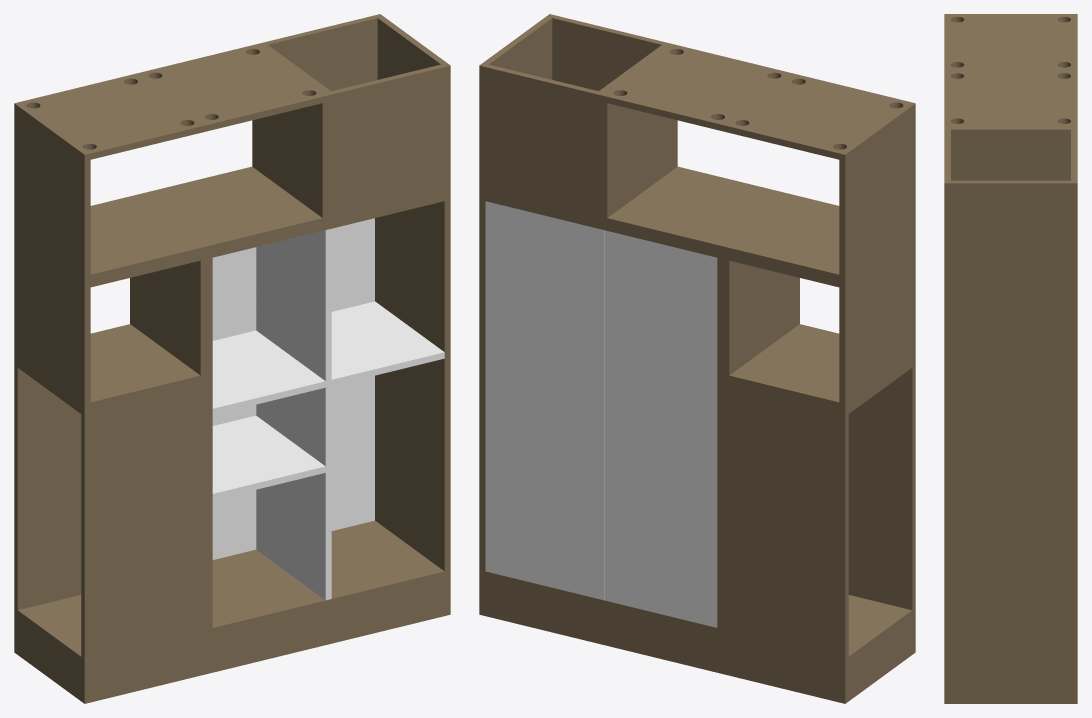
The model's file is example2.glb.
3 renders of one model, left to right at view 1: azimuth 30°, elevation 25°; view 2: azimuth 150°, elevation 25°; view 3: azimuth 270°, elevation 25°, orthographic. The views are drawn at different scales.
Visible parts, largest first — view 1: example2012, example2006, example2003, example2013, example2011, example2005, example2004, example2010, example2009, example2007, example2008; view 2: example2004, example2012, example2006, example2013, example2011, example2010, example2003, example2005; view 3: example2003, example2013, example2012, example2010.
Part boxes in pixels (left/top/right/bottom): example2012: left=14, top=44, right=328, bottom=282; example2006: left=14, top=359, right=206, bottom=665; example2003: left=206, top=193, right=450, bottom=635; example2013: left=258, top=14, right=450, bottom=222; example2011: left=14, top=231, right=206, bottom=409; example2005: left=256, top=229, right=331, bottom=600; example2004: left=212, top=218, right=374, bottom=559; example2010: left=14, top=576, right=450, bottom=703; example2009: left=212, top=415, right=325, bottom=500; example2007: left=212, top=330, right=325, bottom=414; example2008: left=331, top=301, right=444, bottom=385; example2004: left=485, top=201, right=717, bottom=627; example2012: left=601, top=44, right=915, bottom=282; example2006: left=723, top=359, right=915, bottom=665; example2013: left=479, top=14, right=671, bottom=222; example2011: left=723, top=231, right=915, bottom=409; example2010: left=479, top=576, right=915, bottom=703; example2003: left=479, top=193, right=723, bottom=635; example2005: left=598, top=229, right=604, bottom=600; example2003: left=944, top=304, right=1077, bottom=667; example2013: left=944, top=127, right=1077, bottom=304; example2012: left=944, top=14, right=1077, bottom=126; example2010: left=944, top=667, right=1077, bottom=703.
Size of the model in its own units: 0.9 by 1.31 by 0.3.
